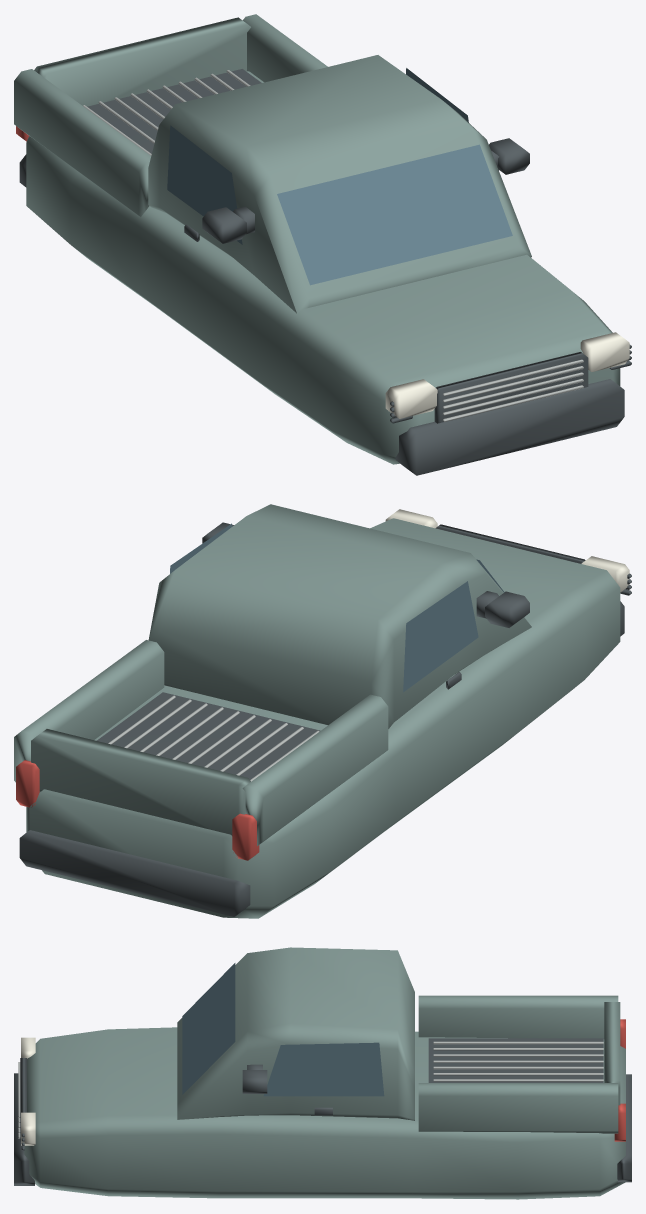
File: pickup.glb
The picture shows the model from 3 angles, top to bottom: view 1: azimuth 30°, elevation 25°; view 2: azimuth 150°, elevation 25°; view 3: azimuth 270°, elevation 25°; orthographic projection. The views are drawn at different scales.
Parts seen in each view (by area): view 1: chassis and body, glazing, trim and bed, grille and rails, headlights; view 2: chassis and body, trim and bed, glazing, grille and rails, tail lights, headlights; view 3: chassis and body, glazing, trim and bed, grille and rails, headlights, tail lights.
Part boxes in pixels (bbox=[...]): chassis and body: bbox=[14, 14, 620, 464]; glazing: bbox=[167, 68, 512, 285]; trim and bed: bbox=[19, 69, 631, 475]; grille and rails: bbox=[83, 70, 583, 421]; headlights: bbox=[385, 332, 629, 418]; chassis and body: bbox=[14, 504, 620, 918]; trim and bed: bbox=[19, 522, 631, 916]; glazing: bbox=[170, 523, 504, 692]; grille and rails: bbox=[108, 695, 319, 781]; tail lights: bbox=[16, 760, 259, 860]; headlights: bbox=[385, 509, 629, 592]; chassis and body: bbox=[24, 947, 625, 1199]; glazing: bbox=[182, 963, 384, 1096]; trim and bed: bbox=[14, 1038, 631, 1185]; grille and rails: bbox=[18, 1041, 603, 1138]; headlights: bbox=[21, 1037, 35, 1145]; tail lights: bbox=[614, 1019, 625, 1141].
Bounding box in the file's own units: 2.34 × 1.52 × 5.02.
